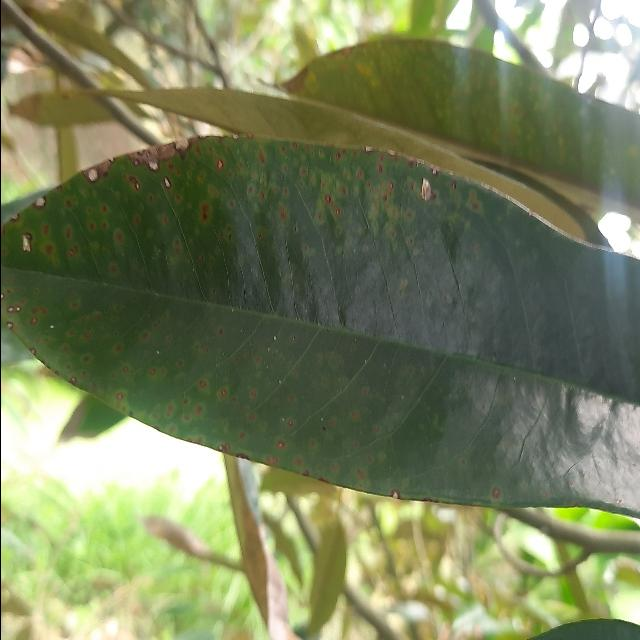Leaf Spot: (0, 131, 640, 523)
